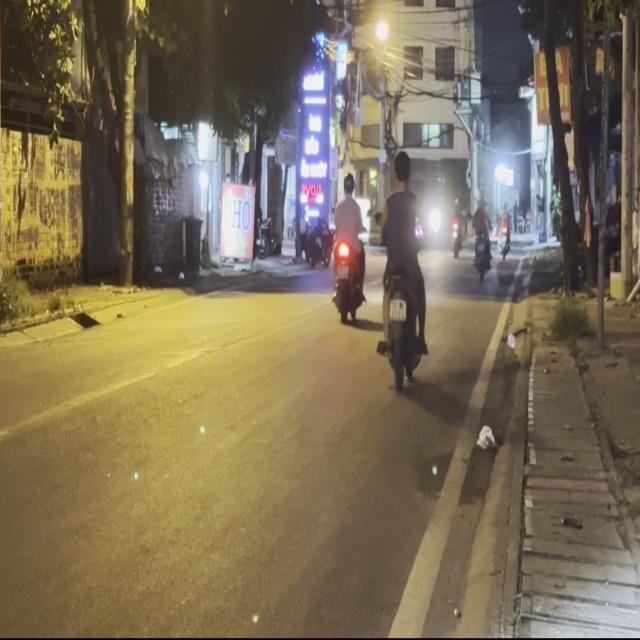licenseplate: (375, 146, 430, 388)
motorcyclist: (391, 148, 411, 187)
nohelmet: (388, 298, 405, 319)
